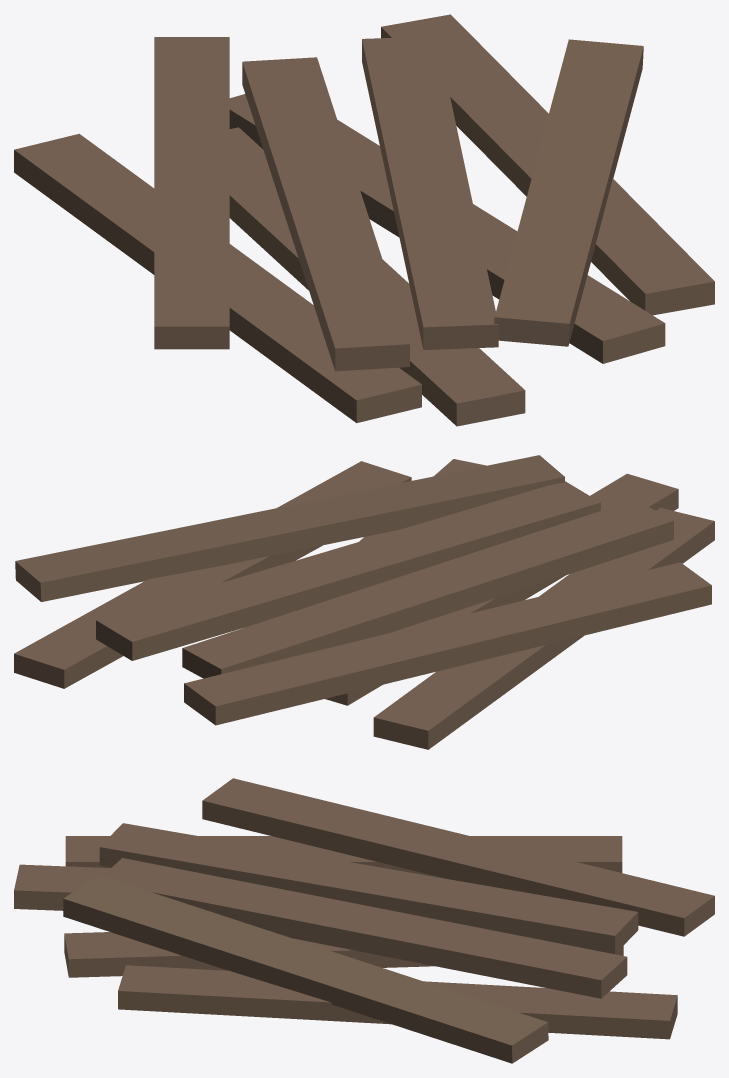
Rendered from Boards.fbx.
3 views of the same model, one above another, from view 1: azimuth 30°, elevation 25°; view 2: azimuth 150°, elevation 25°; view 3: azimuth 270°, elevation 25° (orthographic). The views are drawn at different scales.
Visible parts, largest first — view 1: Boards; view 2: Boards; view 3: Boards.
Boxes of the visible parts, x1=… form: Boards: x1=14, y1=14, x2=714, y2=426; Boards: x1=14, y1=455, x2=714, y2=749; Boards: x1=14, y1=778, x2=714, y2=1063.
Size of the model in its own units: 340 by 384 by 25.62.
